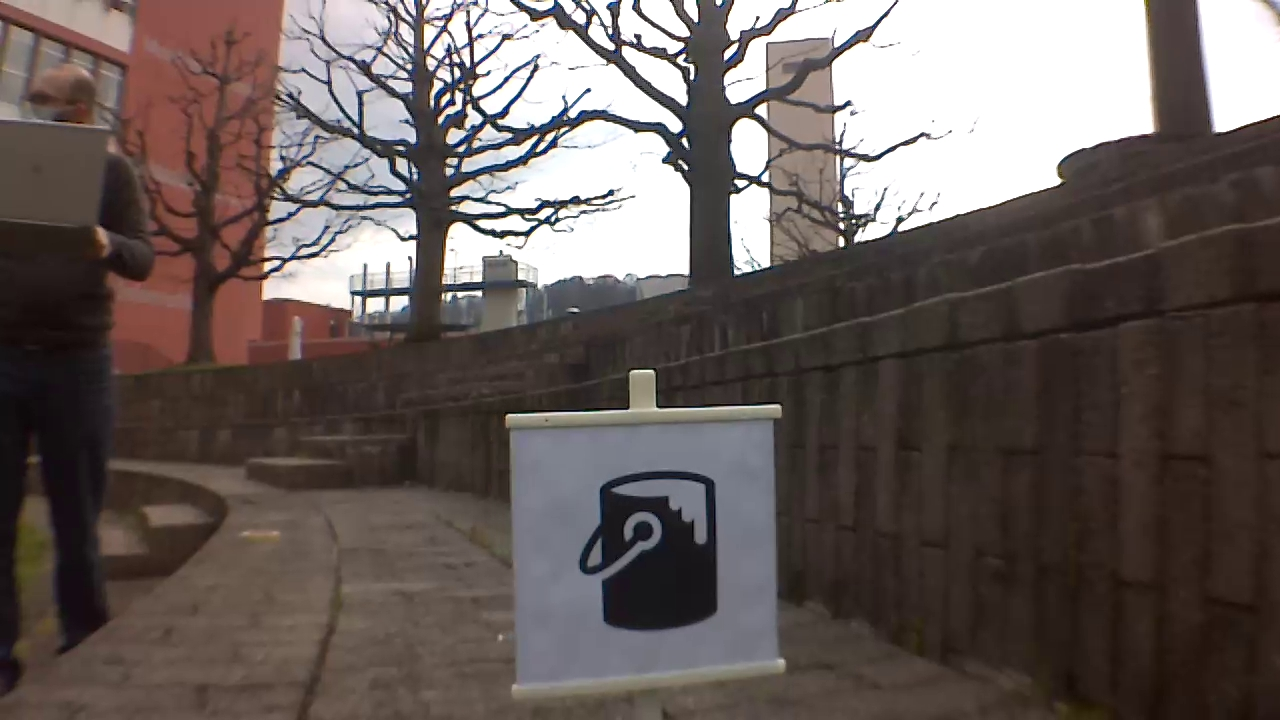bucket: (580, 468, 721, 632)
